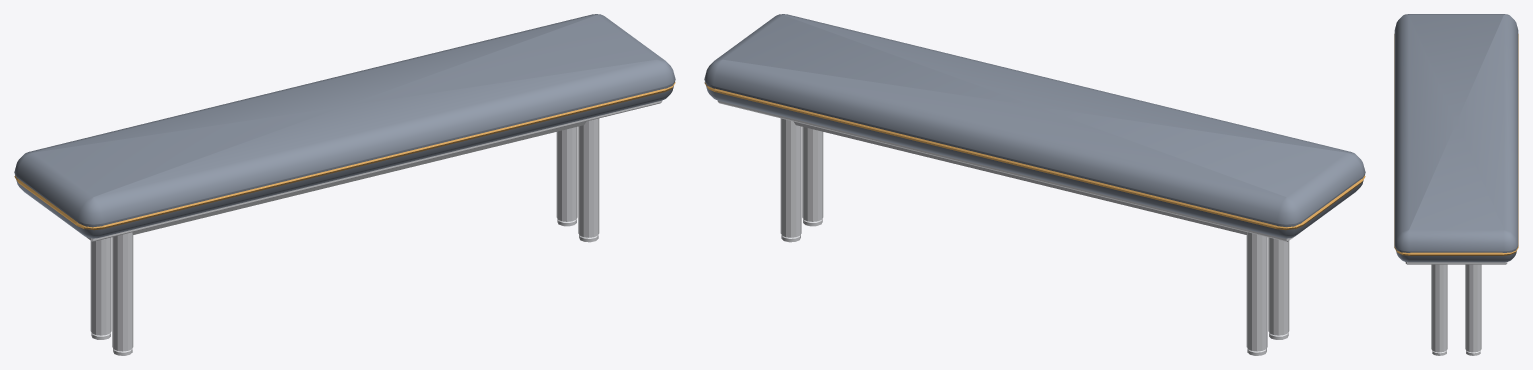
The model's file is office-lobby-and-facilities-canteen-bench-90709384__26229.glb.
3 renders of one model, left to right at view 1: azimuth 30°, elevation 25°; view 2: azimuth 150°, elevation 25°; view 3: azimuth 270°, elevation 25°, orthographic. The views are drawn at different scales.
Visible parts, largest first — view 1: canteen-bench; view 2: canteen-bench; view 3: canteen-bench.
Boxes of the visible parts, x1,y1,x2,y2 form: canteen-bench: (14,14,675,355); canteen-bench: (704,14,1365,355); canteen-bench: (1394,14,1518,355).
Size of the model in its own units: 1.59 by 0.46 by 0.366.
